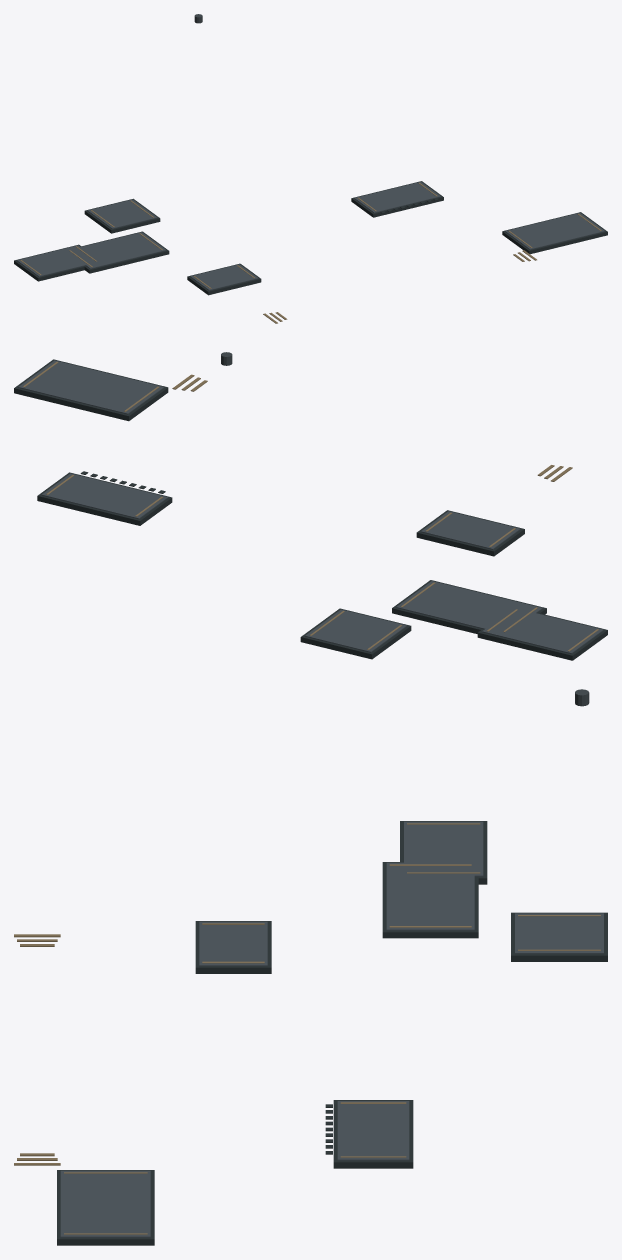
Rendered from R04-architecture.glb.
3 views of the same model, one above another, from view 1: azimuth 30°, elevation 25°; view 2: azimuth 150°, elevation 25°; view 3: azimuth 270°, elevation 25° (orthographic). The views are drawn at different scales.
Parts seen in each view (by area): view 1: Printer drying bed • chamfered flagstone, After-reading station • chamfered flagstone, Telegraph tapping station • chamfered flagstone, Relay test bed • chamfered flagstone, Broken-span isolation bay • chamfered flagstone, Signal ladder sill • chamfered flagstone, Printer drying bed • dark foundation, After-reading station • dark foundation, Telegraph tapping station • dark foundation, Relay test bed • dark foundation, Signal ladder sill • dark foundation, Broken-span isolation bay • dark foundation; view 2: Printer drying bed • chamfered flagstone, After-reading station • chamfered flagstone, Telegraph tapping station • chamfered flagstone, Relay test bed • chamfered flagstone, Broken-span isolation bay • chamfered flagstone, Signal ladder sill • chamfered flagstone, Printer drying bed • dark foundation, Telegraph tapping station • dark foundation, Broken-span isolation bay • dark foundation, Relay test bed • dark foundation, Signal ladder sill • dark foundation, After-reading station • dark foundation; view 3: Printer drying bed • chamfered flagstone, After-reading station • chamfered flagstone, Telegraph tapping station • chamfered flagstone, Broken-span isolation bay • chamfered flagstone, Relay test bed • chamfered flagstone, Signal ladder sill • chamfered flagstone, Printer drying bed • dark foundation, After-reading station • dark foundation, Telegraph tapping station • dark foundation, Relay test bed • dark foundation, Signal ladder sill • dark foundation.
Part boxes in pixels (x1,y1,x2,y2): Printer drying bed • chamfered flagstone: (505,213,604,249); After-reading station • chamfered flagstone: (66,232,166,268); Telegraph tapping station • chamfered flagstone: (354,182,440,212); Relay test bed • chamfered flagstone: (87,199,157,228); Broken-span isolation bay • chamfered flagstone: (17,245,85,276); Signal ladder sill • chamfered flagstone: (190,264,258,290); Printer drying bed • dark foundation: (502,212,607,254); After-reading station • dark foundation: (80,231,169,273); Telegraph tapping station • dark foundation: (351,181,443,217); Relay test bed • dark foundation: (84,198,160,233); Signal ladder sill • dark foundation: (187,263,261,295); Broken-span isolation bay • dark foundation: (14,244,85,281); Printer drying bed • chamfered flagstone: (18,360,164,414); After-reading station • chamfered flagstone: (396,581,542,633); Telegraph tapping station • chamfered flagstone: (41,473,167,518); Relay test bed • chamfered flagstone: (305,609,406,652); Broken-span isolation bay • chamfered flagstone: (482,613,603,653); Signal ladder sill • chamfered flagstone: (421,511,520,549); Printer drying bed • dark foundation: (14,359,168,421); Telegraph tapping station • dark foundation: (37,472,172,525); Broken-span isolation bay • dark foundation: (477,613,607,660); Relay test bed • dark foundation: (300,608,411,659); Signal ladder sill • dark foundation: (416,510,524,556); After-reading station • dark foundation: (392,580,546,633); Printer drying bed • chamfered flagstone: (60,1170,150,1237); After-reading station • chamfered flagstone: (386,862,474,930); Telegraph tapping station • chamfered flagstone: (337,1101,409,1160); Broken-span isolation bay • chamfered flagstone: (404,821,483,876); Relay test bed • chamfered flagstone: (515,913,603,953); Signal ladder sill • chamfered flagstone: (199,921,267,965); Printer drying bed • dark foundation: (57,1170,154,1245); After-reading station • dark foundation: (382,862,478,938); Telegraph tapping station • dark foundation: (333,1100,413,1168); Relay test bed • dark foundation: (511,912,607,961); Signal ladder sill • dark foundation: (195,921,271,973).
Size of the model in its own units: 11.45 by 4.09 by 6.87.
